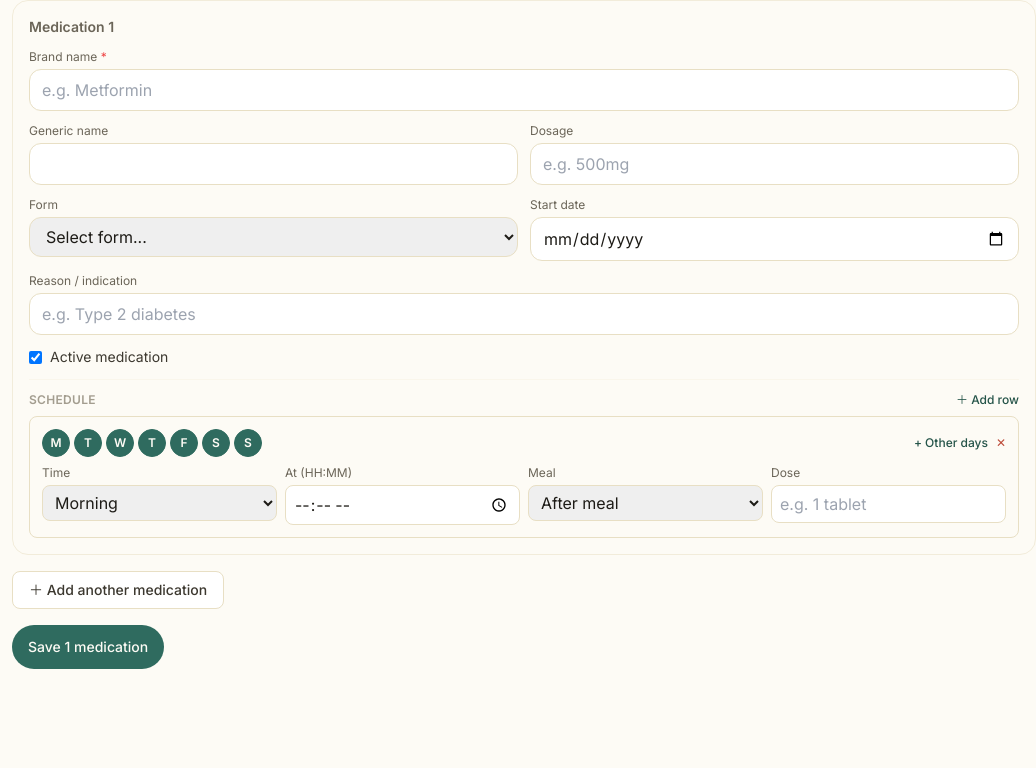
Test: MedicationForm › retains failed card with error message
Type "Aspirin" into the field with placeholder "e.g. Metformin" at [524, 90], box x1=29 y1=69 x2=1019 y2=111
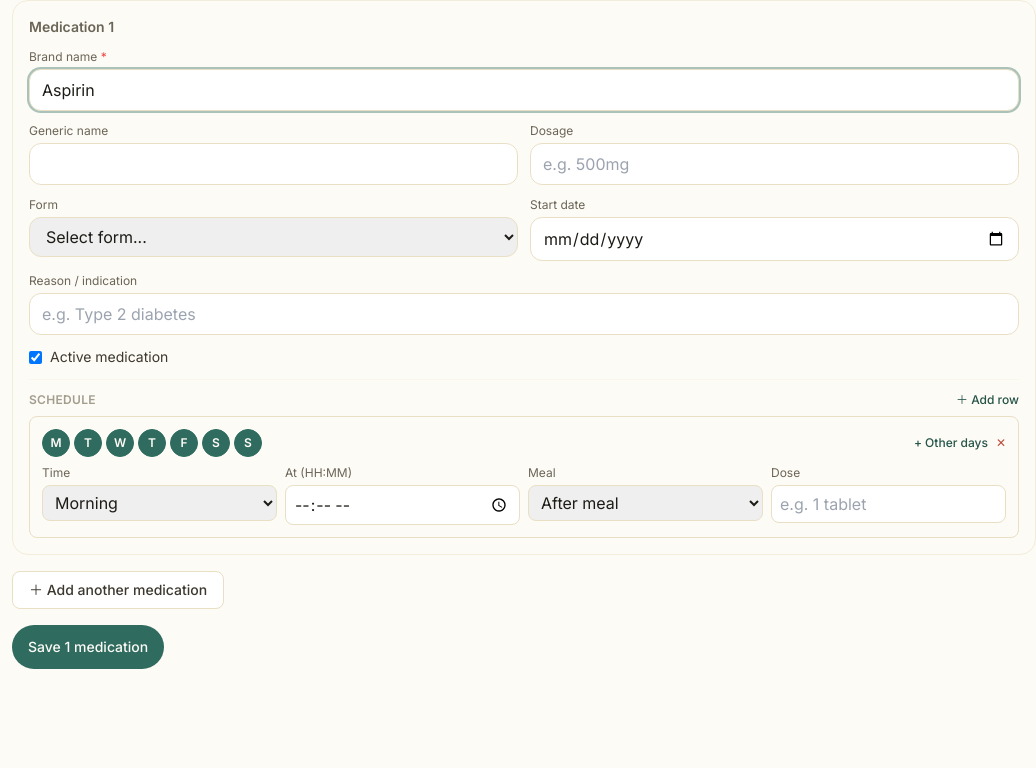
Click the button "Save 1 medication" at [88, 647], box x1=12 y1=625 x2=164 y2=669
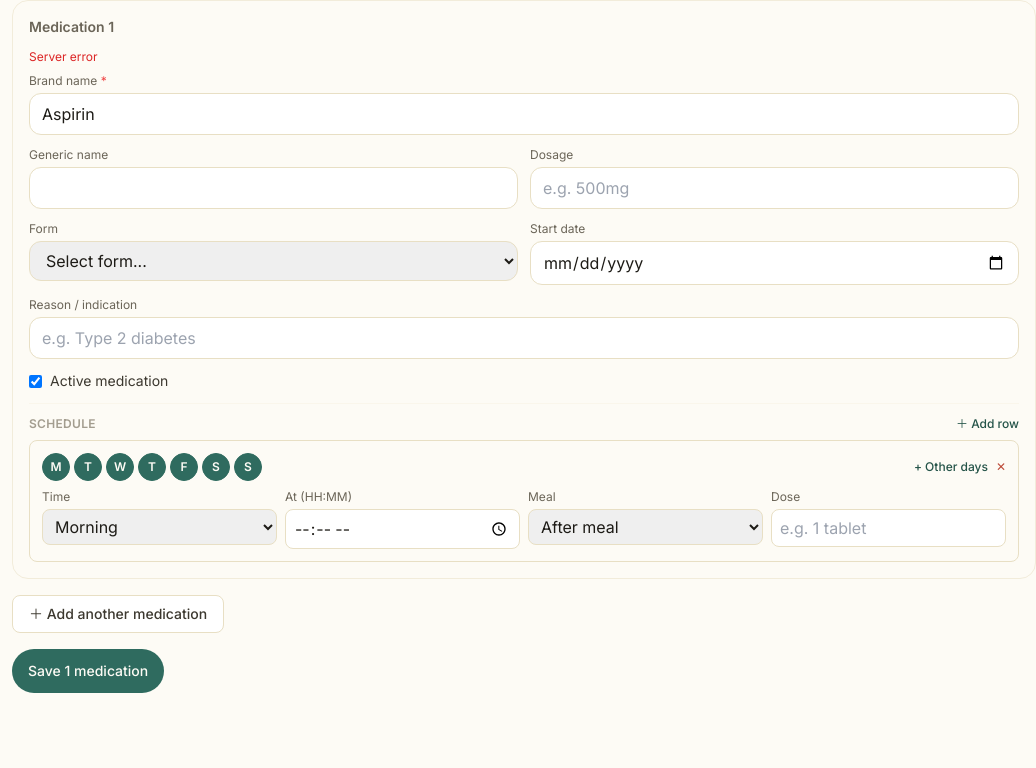
Expected: the text "Server error" is shown, x1=29 y1=49 x2=98 y2=64
